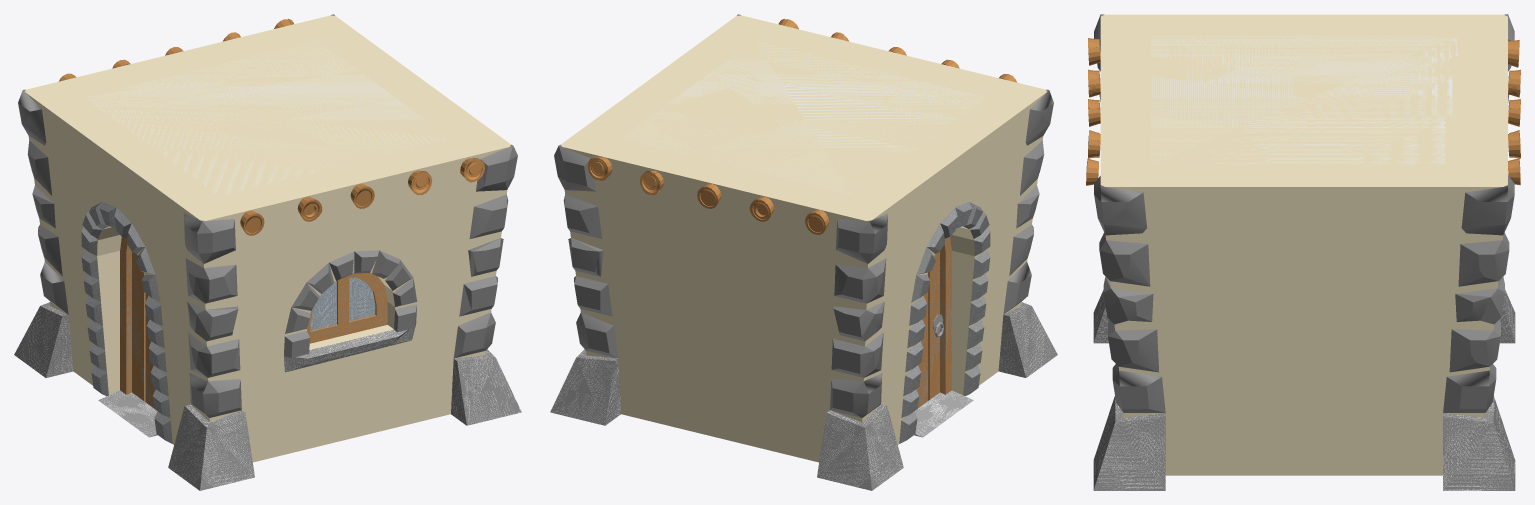
File: House2.fbx
3 views of the same model, side by side, from view 1: azimuth 30°, elevation 25°; view 2: azimuth 150°, elevation 25°; view 3: azimuth 270°, elevation 25° (orthographic). The views are drawn at different scales.
Parts seen in each view (by area): view 1: G_2_1, CornStone1, StoneDoor1, CornStone2, G_1_3, G_4_1, Door1, Window1, CornStone3, G_1_4, G_1_1, Group2 (+1 smaller); view 2: G_2_1, CornStone3, StoneDoor1, CornStone4, G_1_1, Door1, CornStone1, G_1_2, G_1_3, Porog1; view 3: G_2_1, CornStone4, CornStone2, G_1_4, G_1_2, G_1_1, G_1_3.
Part boxes in pixels (x1,y1,x2,y2): G_2_1: [25, 15, 510, 462]; CornStone1: [184, 213, 241, 417]; StoneDoor1: [81, 202, 172, 443]; CornStone2: [453, 144, 517, 358]; G_1_3: [168, 404, 254, 490]; G_4_1: [284, 250, 417, 357]; Door1: [120, 237, 155, 408]; Window1: [307, 273, 387, 343]; CornStone3: [18, 89, 68, 314]; G_1_4: [451, 349, 521, 425]; G_1_1: [14, 302, 73, 377]; Group2: [284, 327, 415, 372]; G_2_1: [561, 15, 1046, 462]; CornStone3: [830, 213, 887, 417]; StoneDoor1: [899, 202, 990, 443]; CornStone4: [554, 144, 618, 358]; G_1_1: [817, 404, 903, 490]; Door1: [916, 237, 951, 408]; CornStone1: [1003, 89, 1053, 314]; G_1_2: [550, 349, 620, 425]; G_1_3: [998, 302, 1057, 377]; Porog1: [914, 390, 973, 437]; G_2_1: [1100, 14, 1507, 475]; CornStone4: [1443, 175, 1514, 412]; CornStone2: [1094, 176, 1165, 412]; G_1_4: [1093, 396, 1165, 490]; G_1_2: [1443, 396, 1515, 490]; G_1_1: [1499, 289, 1515, 343]; G_1_3: [1093, 290, 1109, 343].
Bounding box in the file's own units: 2920 × 2321 × 3010.
